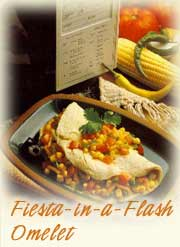corn: (113, 39, 177, 90)
